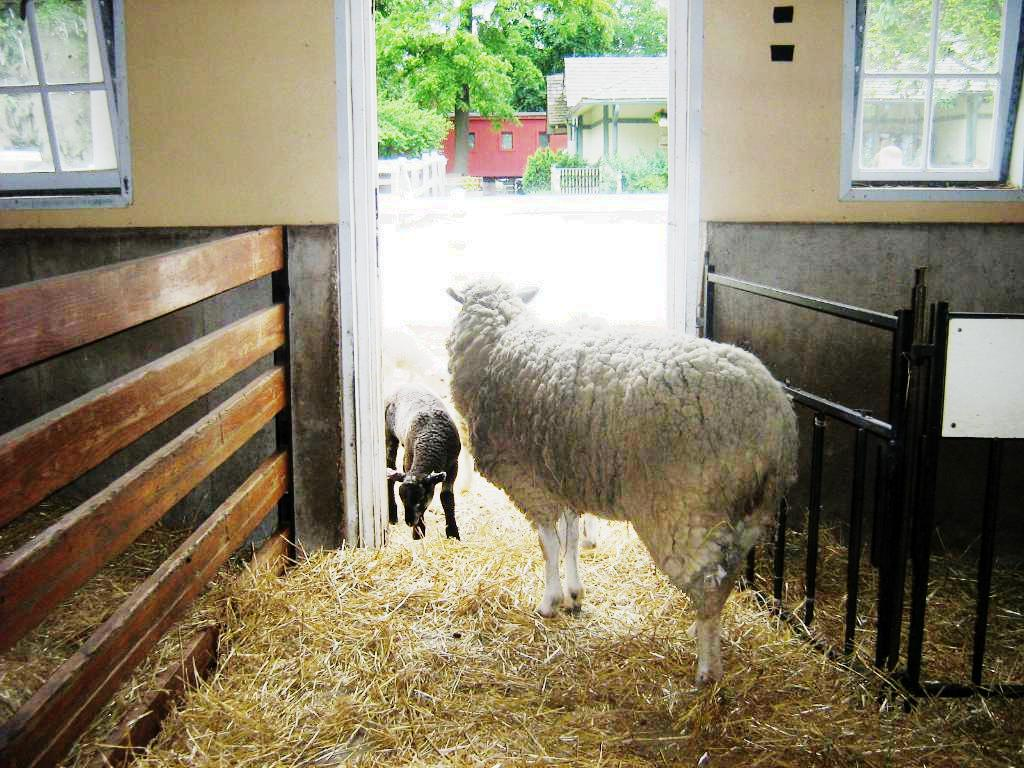Sheep: (457, 276, 806, 660), (383, 386, 457, 546), (380, 301, 450, 387)
